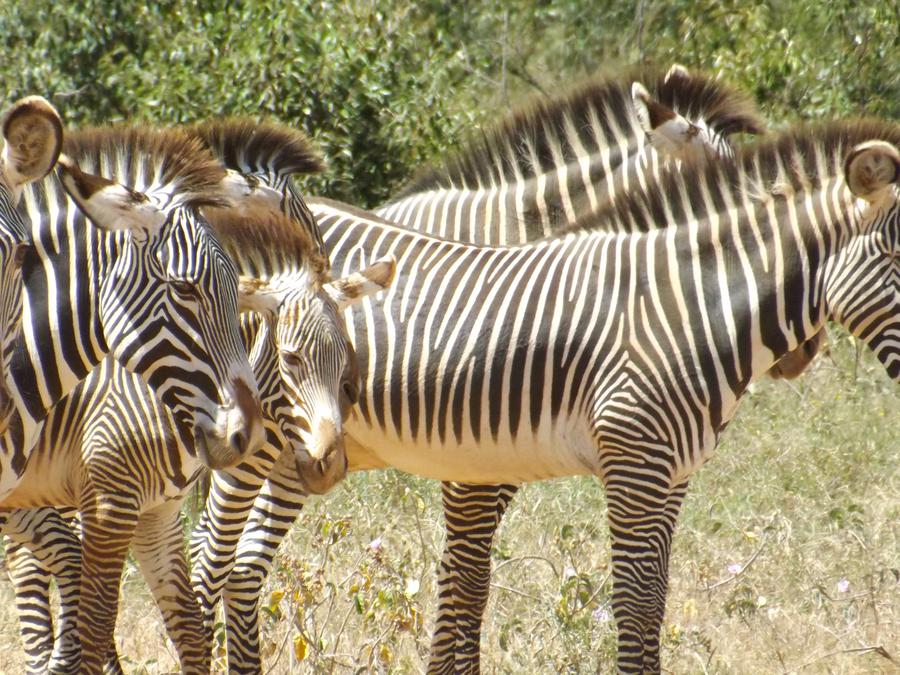zebra_grevys: (350, 201, 685, 477)
